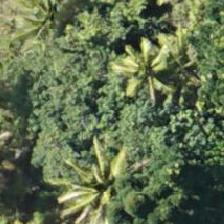coconut_tree: (60, 128, 150, 218), (95, 19, 185, 109), (0, 0, 84, 46)
